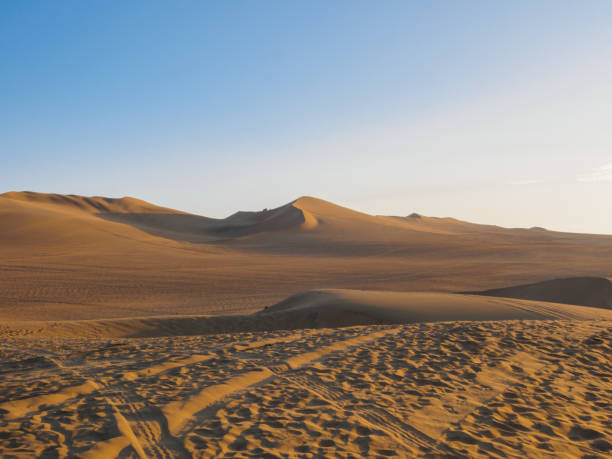human_footprint: (14, 326, 370, 458), (322, 315, 554, 404), (450, 330, 609, 454), (193, 366, 406, 458)
